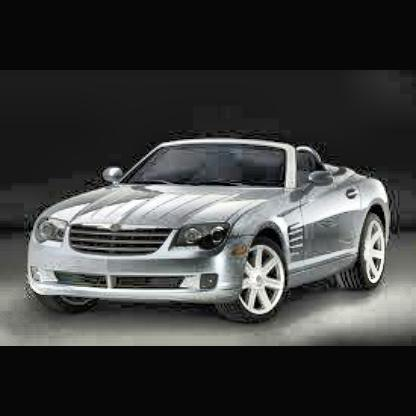Chrysler Crossfire Convertible 2008: (22, 143, 388, 318)
